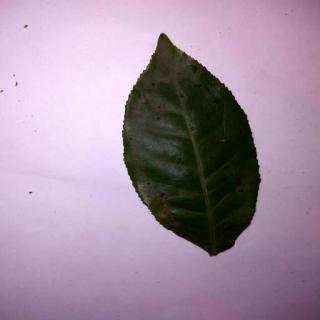Bird Eye Spot: (122, 34, 262, 258)
